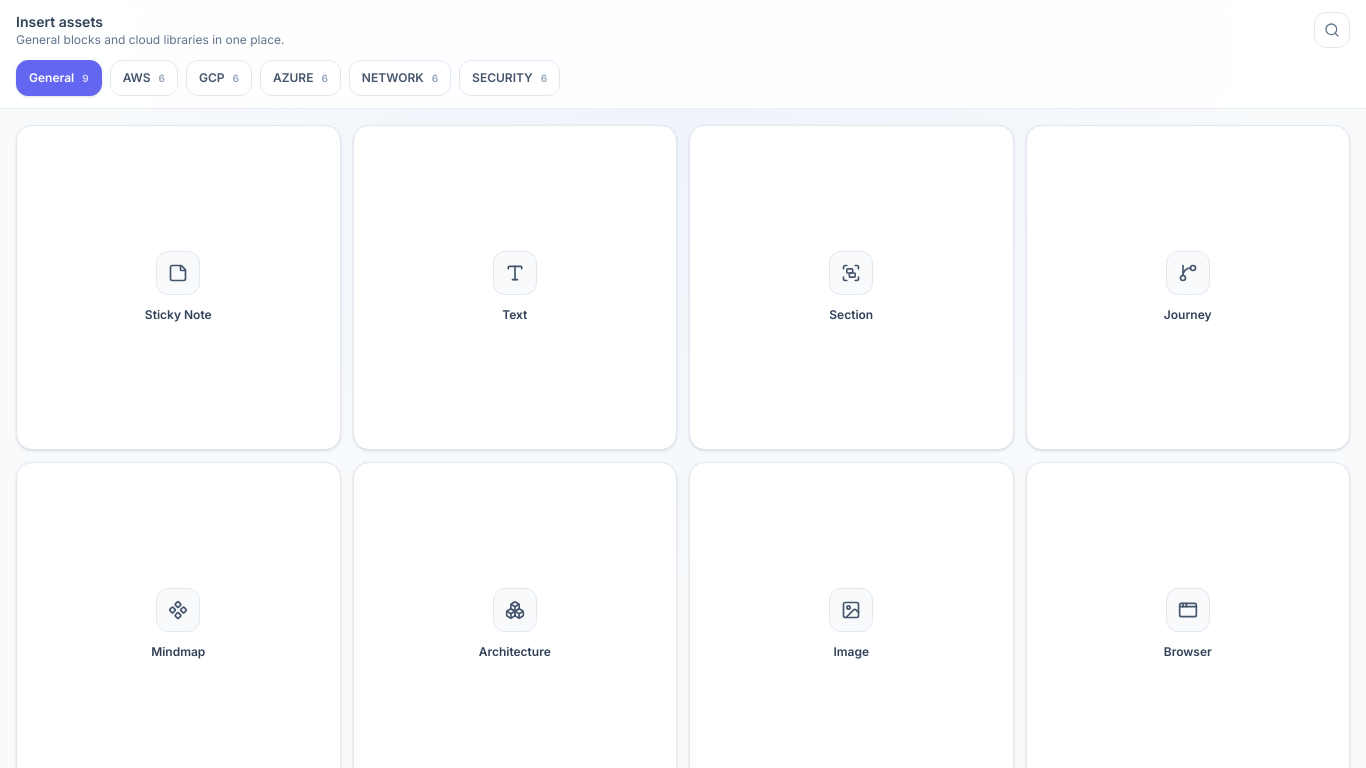
it: AssetsView › filters assets when search is opened
Step 1. Click the button named "Toggle asset search" → (1332,30), box [1314, 12, 1350, 48]
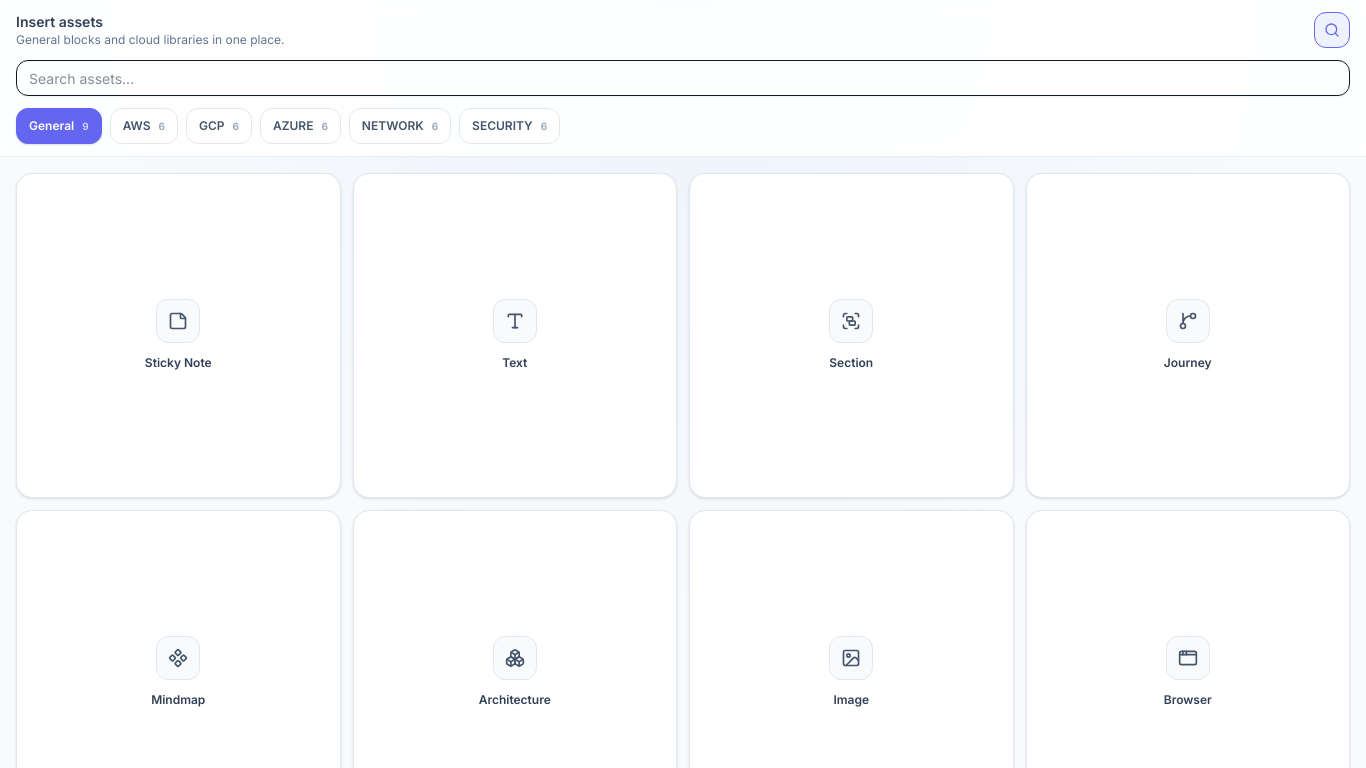
Step 2. Type "mobile" into the field with placeholder "Search assets..." → (683,78), box [16, 60, 1350, 96]
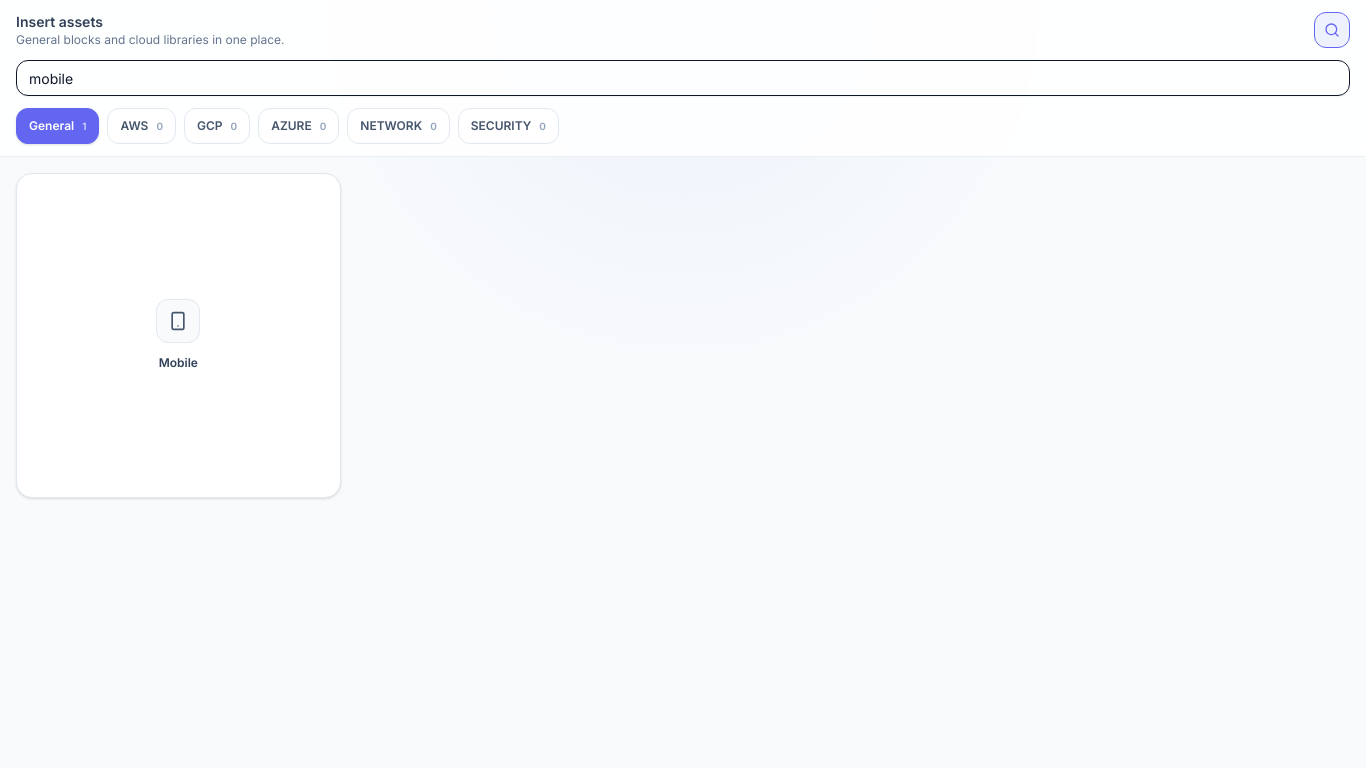
Expected: the text "Mobile" is shown, [159, 355, 198, 371]
Result: the button "Sticky Note" is gone
